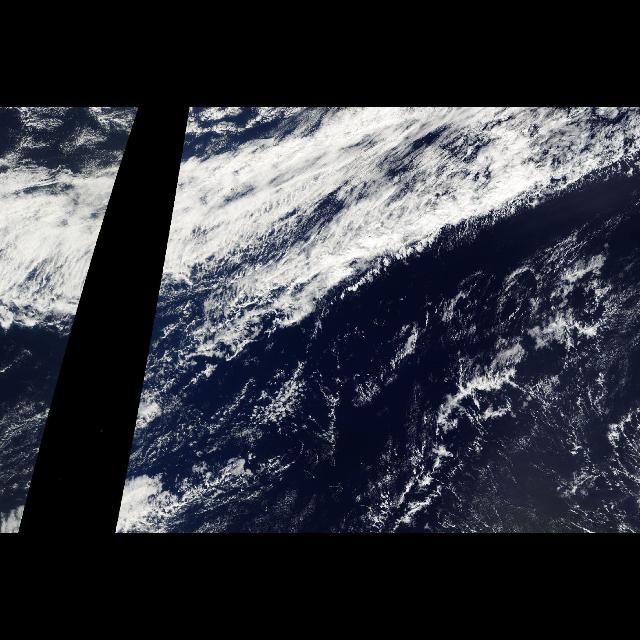Fish: (147, 151, 621, 504)
